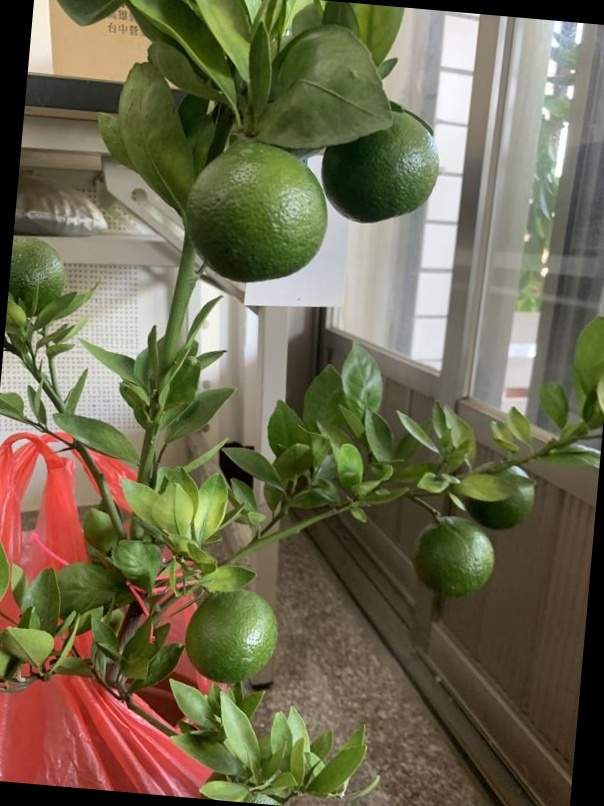Tangerine: (177, 136, 331, 282), (321, 100, 440, 226), (185, 589, 281, 682), (408, 513, 501, 599), (8, 235, 67, 318)
